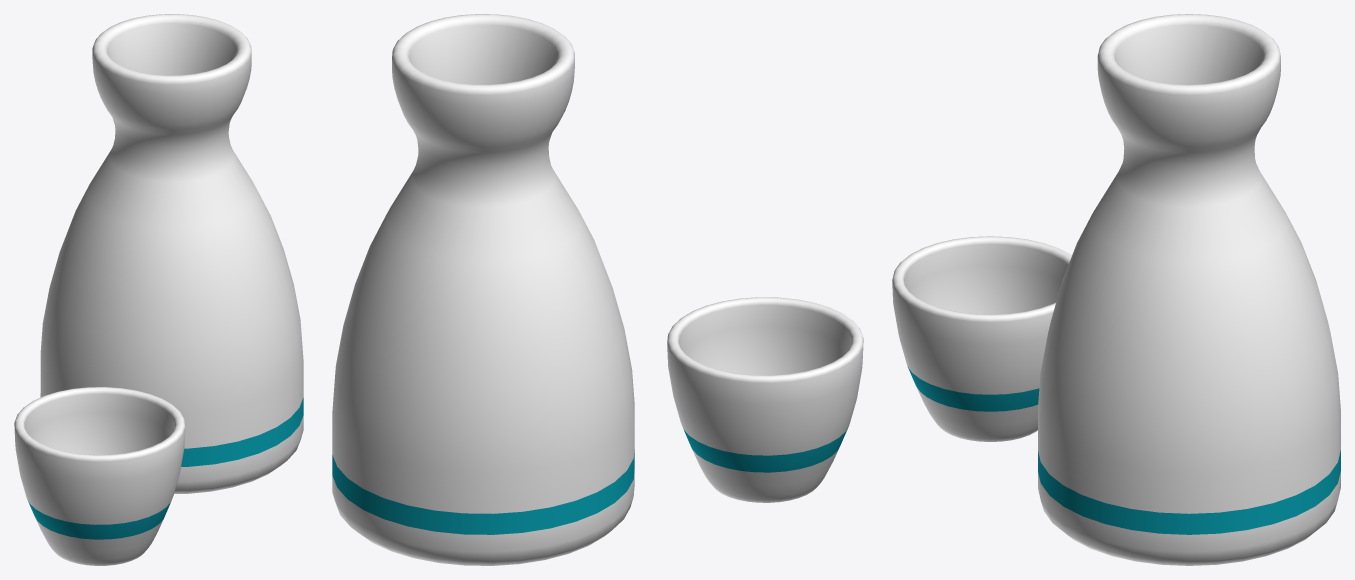
Rendered from sake.gltf.
3 views of the same model, side by side, from view 1: azimuth 30°, elevation 25°; view 2: azimuth 150°, elevation 25°; view 3: azimuth 270°, elevation 25° (orthographic). The views are drawn at different scales.
Parts seen in each view (by area): view 1: Circle.2275; view 2: Circle.2275; view 3: Circle.2275.
Part boxes in pixels (box(x1,y1,x2,y2)): Circle.2275: box(14, 14, 303, 565); Circle.2275: box(332, 14, 863, 565); Circle.2275: box(892, 14, 1340, 565).
Size of the model in its own units: 1.89 by 2.08 by 1.84.
1 material, 1 textured.
